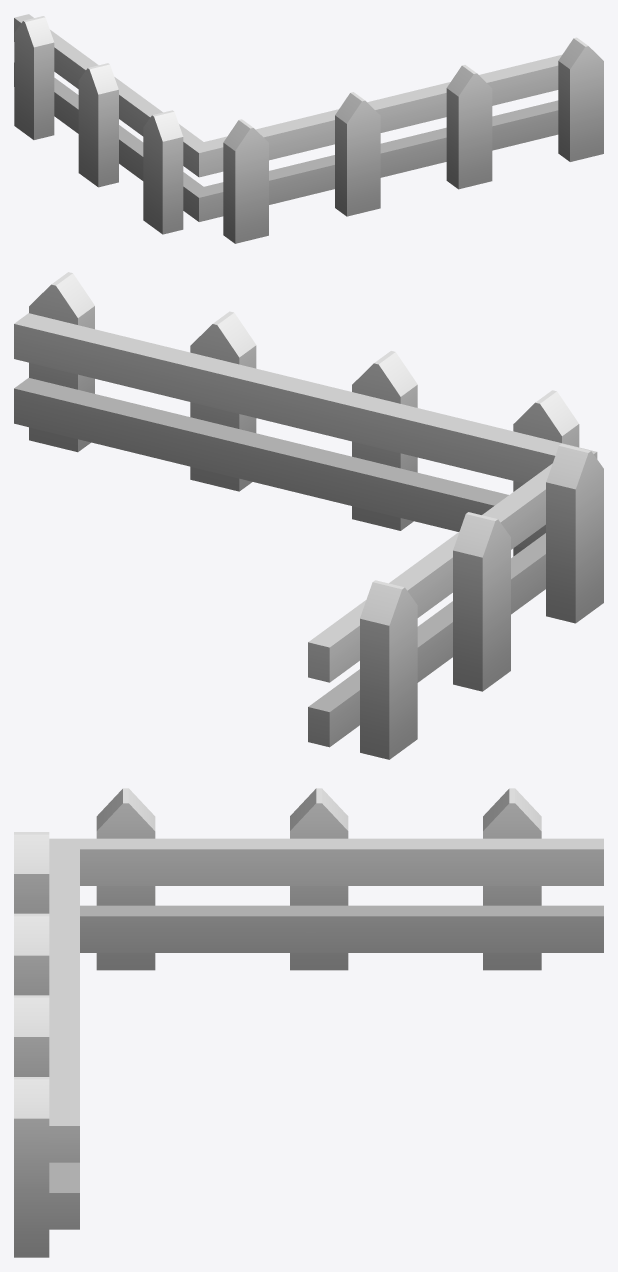
The model's file is fence white left.fbx.
3 views of the same model, one above another, from view 1: azimuth 30°, elevation 25°; view 2: azimuth 150°, elevation 25°; view 3: azimuth 270°, elevation 25° (orthographic). The views are drawn at different scales.
Visible parts, largest first — view 1: fence_white_left; view 2: fence_white_left; view 3: fence_white_left.
Part boxes in pixels (box(x1,y1,x2,y2)): fence_white_left: box(14, 14, 603, 243); fence_white_left: box(14, 272, 603, 759); fence_white_left: box(14, 788, 603, 1257).
Size of the model in its own units: 408 by 105 by 336.
Materials: 1 (1 with a texture image).
